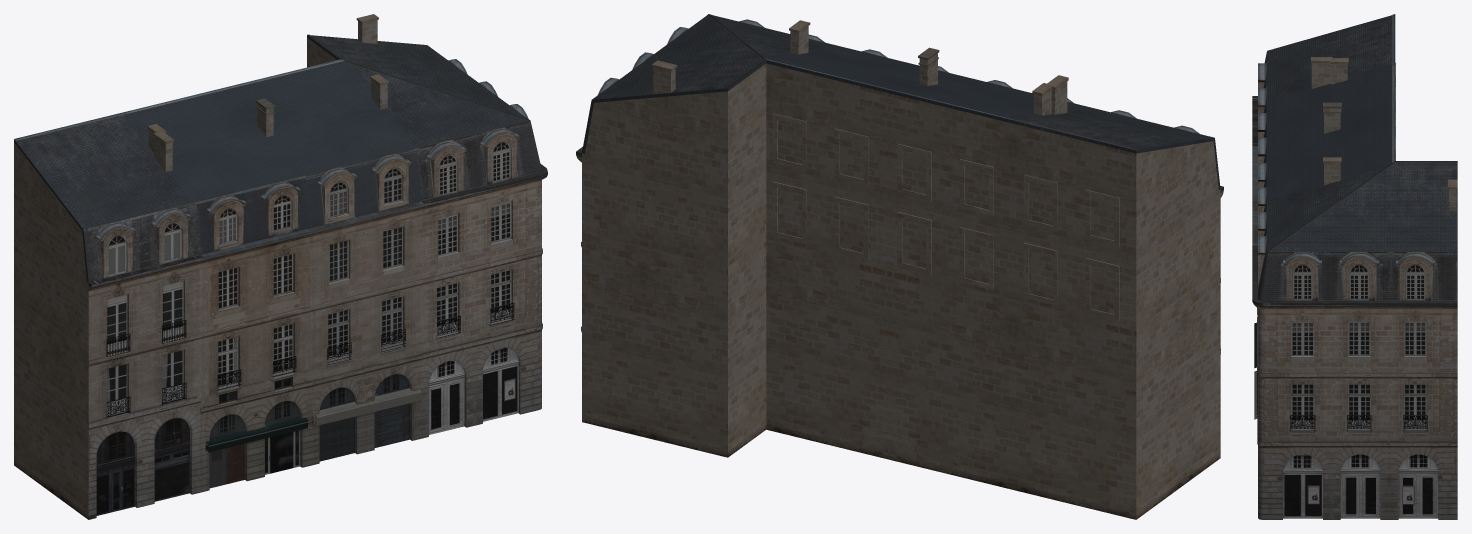
File: bordeaux_flat_2_corner_france.glb
3 views of the same model, side by side, from view 1: azimuth 30°, elevation 25°; view 2: azimuth 150°, elevation 25°; view 3: azimuth 270°, elevation 25° (orthographic). The views are drawn at different scales.
Visible parts, largest first — view 1: 1.002_1_0; view 2: 1.002_1_0; view 3: 1.002_1_0.
Part boxes in pixels (x1,y1,x2,y2): 1.002_1_0: (14,14,547,519); 1.002_1_0: (576,14,1223,519); 1.002_1_0: (1252,14,1457,519).
Size of the model in its own units: 26.8 by 18.58 by 11.21.
Materials: 1 (1 with a texture image).
